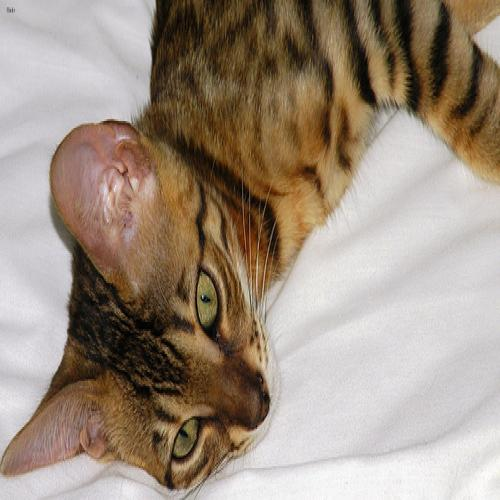cat-face: (5, 116, 289, 500)
